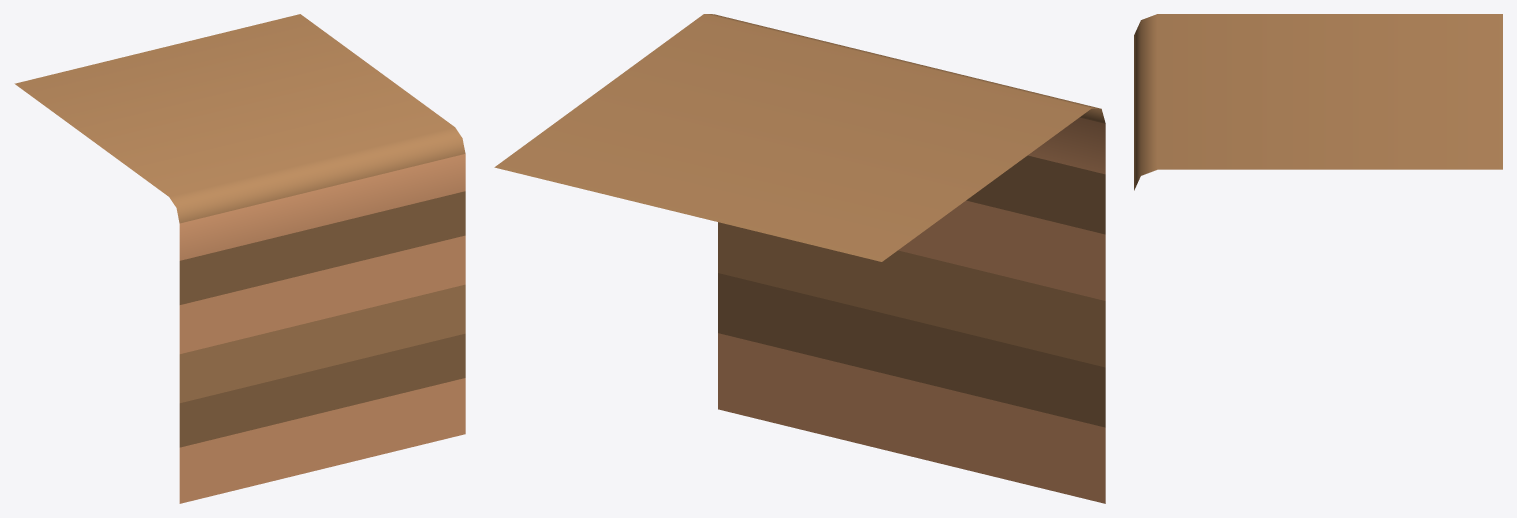
The model's file is Cube_Dirt_Side_Tall.glb.
3 renders of one model, left to right at view 1: azimuth 30°, elevation 25°; view 2: azimuth 150°, elevation 25°; view 3: azimuth 270°, elevation 25°, orthographic. The views are drawn at different scales.
Visible parts, largest first — view 1: Cube_Dirt_Side_Tall; view 2: Cube_Dirt_Side_Tall; view 3: Cube_Dirt_Side_Tall.
Part boxes in pixels (x1=…): Cube_Dirt_Side_Tall: x1=14, y1=14, x2=465, y2=503; Cube_Dirt_Side_Tall: x1=494, y1=14, x2=1105, y2=503; Cube_Dirt_Side_Tall: x1=1134, y1=14, x2=1502, y2=190.
Size of the model in its own units: 2 by 2 by 2.
